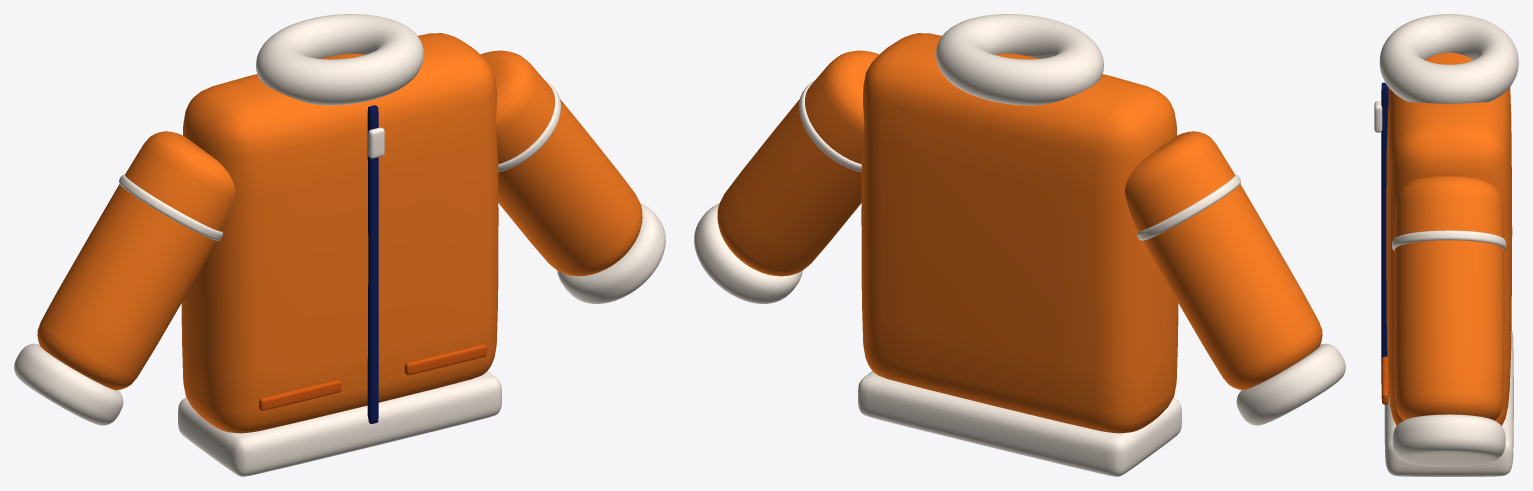
File: jacket.glb
3 renders of one model, left to right at view 1: azimuth 30°, elevation 25°; view 2: azimuth 150°, elevation 25°; view 3: azimuth 270°, elevation 25°, orthographic. The views are drawn at different scales.
Parts seen in each view (by area): view 1: Body, Sleeve L, Sleeve R, Hem, Collar, Cuff L, Cuff R, Zip, Stripe L, Pocket L, Pocket R, Stripe R; view 2: Body, Sleeve L, Sleeve R, Hem, Collar, Cuff L, Cuff R, Stripe L, Stripe R; view 3: Sleeve R, Body, Collar, Cuff R, Hem, Zip, Stripe R, Pocket R, Zip Pull.
Boxes of the visible parts, x1,y1,x2,y2 form: Body: (181,33,498,433); Sleeve L: (37,131,234,390); Sleeve R: (480,50,642,276); Hem: (178,371,501,476); Collar: (256,14,423,105); Cuff L: (14,343,123,425); Cuff R: (557,203,665,303); Zip: (367,105,378,423); Stripe L: (119,174,222,240); Pocket L: (259,379,341,410); Pocket R: (404,344,486,375); Stripe R: (498,80,560,171); Body: (861,33,1178,433); Sleeve L: (1125,131,1322,390); Sleeve R: (717,50,879,276); Hem: (858,371,1181,476); Collar: (936,14,1103,105); Cuff L: (1236,343,1345,425); Cuff R: (694,203,802,303); Stripe L: (1137,174,1240,240); Stripe R: (799,80,861,171); Sleeve R: (1394,176,1504,420); Body: (1386,52,1512,425); Collar: (1379,14,1518,103); Cuff R: (1392,414,1505,466); Hem: (1384,329,1513,476); Zip: (1381,82,1388,383); Stripe R: (1392,230,1506,250); Pocket R: (1381,356,1388,404); Zip Pull: (1374,101,1382,132).
Bounding box in the file's own units: 2.35 × 1.38 × 0.4799.
